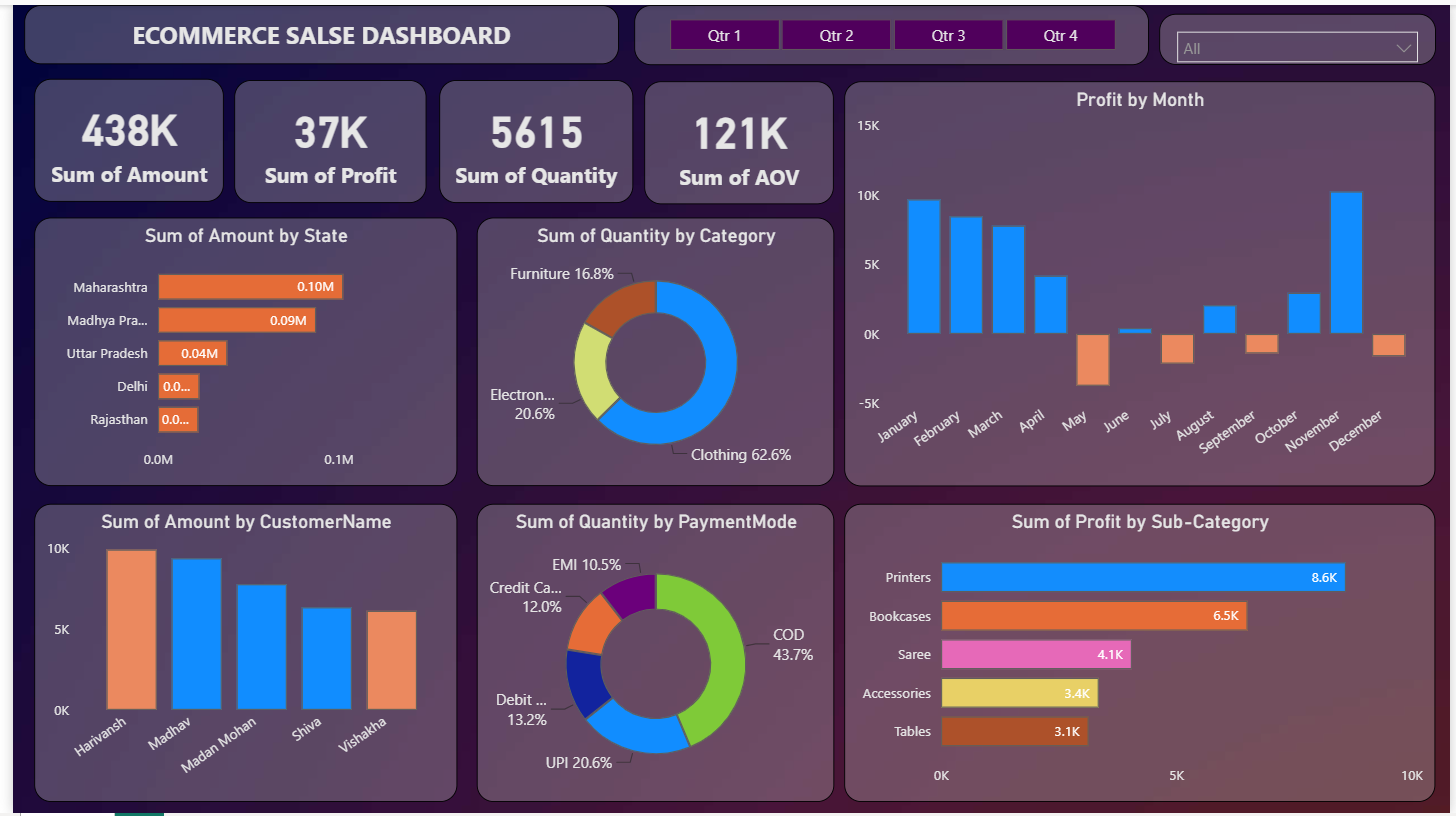

Layout of this report page (visuals, bound fields, positions):
{"tool":"powerbi","page":{"name":"Page 1","canvas":[1280,720],"ordinal":0},"visuals":[{"type":"textbox","box":[9.7,0,529.6,53.1],"z":0},{"type":"columnChart","title":"Profit by Month","fields":{"Y":["Sum(Details.Profit)"],"Category":["Orders.Order Date.Variation.Date Hierarchy.Month"]},"box":[740.8,67.6,526,360.7],"z":1000},{"type":"barChart","fields":{"Category":["Details.Sub-Category"],"Y":["Sum(Details.Profit)"]},"box":[740.8,444,526,265.4],"z":2000},{"type":"donutChart","fields":{"Category":["Details.Category"],"Y":["Sum(Details.Quantity)"]},"box":[412.6,189.4,318.5,238.9],"z":3000},{"type":"donutChart","fields":{"Y":["Sum(Details.Quantity)"],"Category":["Details.PaymentMode"]},"box":[412.6,444,318.5,265.4],"z":4000},{"type":"card","fields":{"Values":["Sum(Details.Amount)"]},"box":[19.3,65.1,168.9,109.8],"z":5000},{"type":"card","fields":{"Values":["Sum(Details.Profit)"]},"box":[196.6,66.4,171.3,109.8],"z":6000},{"type":"card","fields":{"Values":["Sum(Details.Quantity)"]},"box":[380,66.4,172.5,109.8],"z":7000},{"type":"card","fields":{"Values":["Sum(Details.AOV(Average Order Value))"]},"box":[562.2,67.6,168.9,109.8],"z":8000},{"type":"barChart","fields":{"Category":["Orders.State"],"Y":["Sum(Details.Amount)"]},"box":[19.3,189.4,376.4,238.9],"z":9000},{"type":"columnChart","fields":{"Category":["Orders.CustomerName"],"Y":["Sum(Details.Amount)"]},"box":[19.3,444,376.4,265.4],"z":10000},{"type":"slicer","fields":{"Values":["Orders.Order Date.Variation.Date Hierarchy.Quarter"]},"box":[553,0,458.3,53.5],"z":11000},{"type":"slicer","fields":{"Values":["Orders.State"]},"box":[1020.6,7.2,246.1,45.8],"z":12000}]}

Visuals, with their boxes in screenshot pixels (x1, y1, x2, y2), scaled from the page's 1280x720 canvas onto the 1456x816 screenshot:
textbox: [x1=11, y1=0, x2=613, y2=60]
"Profit by Month" columnChart: [x1=843, y1=77, x2=1441, y2=485]
barChart - Details.Sub-Category x Sum(Details.Profit): [x1=843, y1=503, x2=1441, y2=804]
donutChart - Details.Category x Sum(Details.Quantity): [x1=469, y1=215, x2=832, y2=485]
donutChart - Sum(Details.Quantity) x Details.PaymentMode: [x1=469, y1=503, x2=832, y2=804]
card - Sum(Details.Amount): [x1=22, y1=74, x2=214, y2=198]
card - Sum(Details.Profit): [x1=224, y1=75, x2=418, y2=200]
card - Sum(Details.Quantity): [x1=432, y1=75, x2=628, y2=200]
card - Sum(Details.AOV(Average Order Value)): [x1=640, y1=77, x2=832, y2=201]
barChart - Orders.State x Sum(Details.Amount): [x1=22, y1=215, x2=450, y2=485]
columnChart - Orders.CustomerName x Sum(Details.Amount): [x1=22, y1=503, x2=450, y2=804]
slicer - Orders.Order Date.Variation.Date Hierarchy.Quarter: [x1=629, y1=0, x2=1150, y2=61]
slicer - Orders.State: [x1=1161, y1=8, x2=1441, y2=60]
